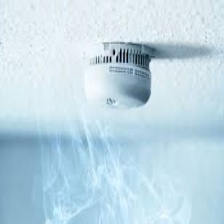smoke: (67, 164, 176, 218)
